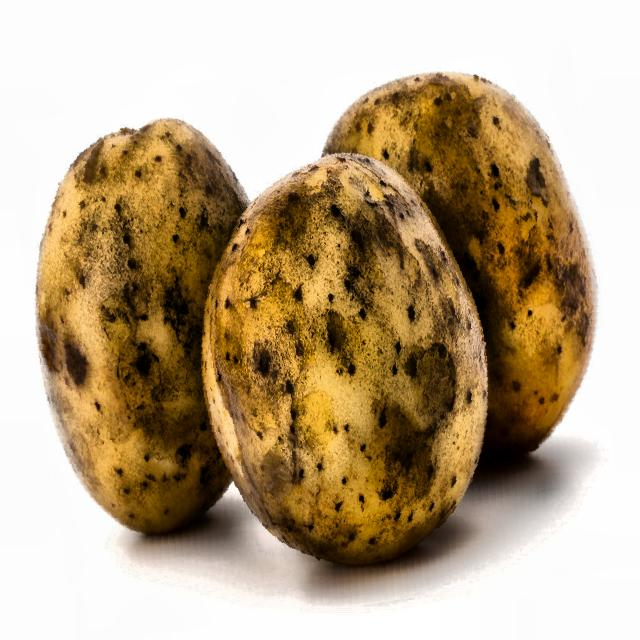potato: (19, 50, 626, 626)
